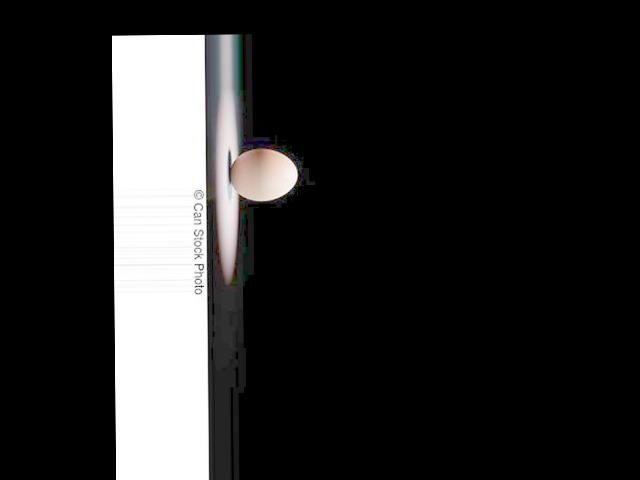egg: (228, 147, 297, 201)
